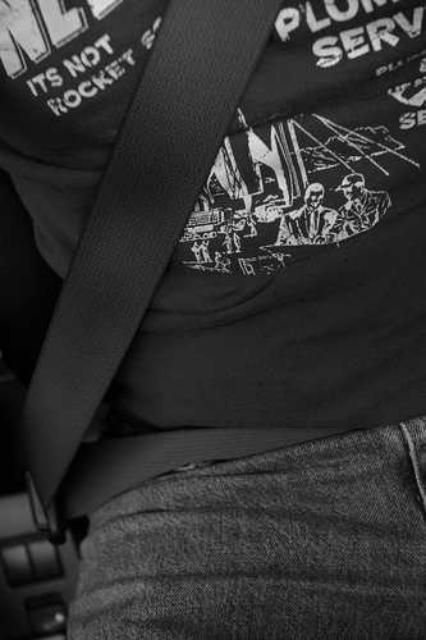Seatbelt: (20, 1, 286, 526)
